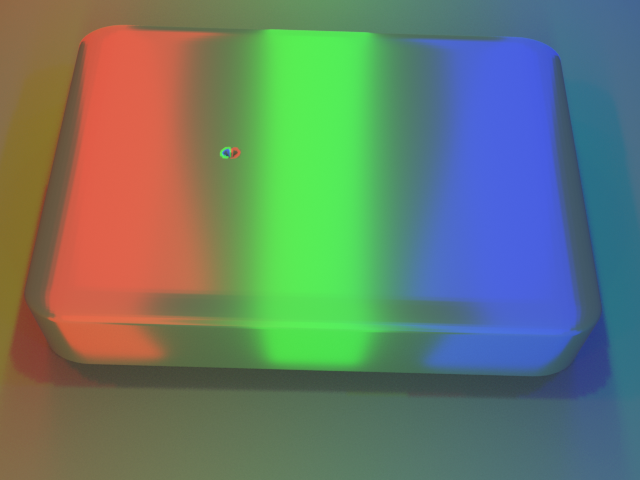dent: (200, 127, 240, 172)
